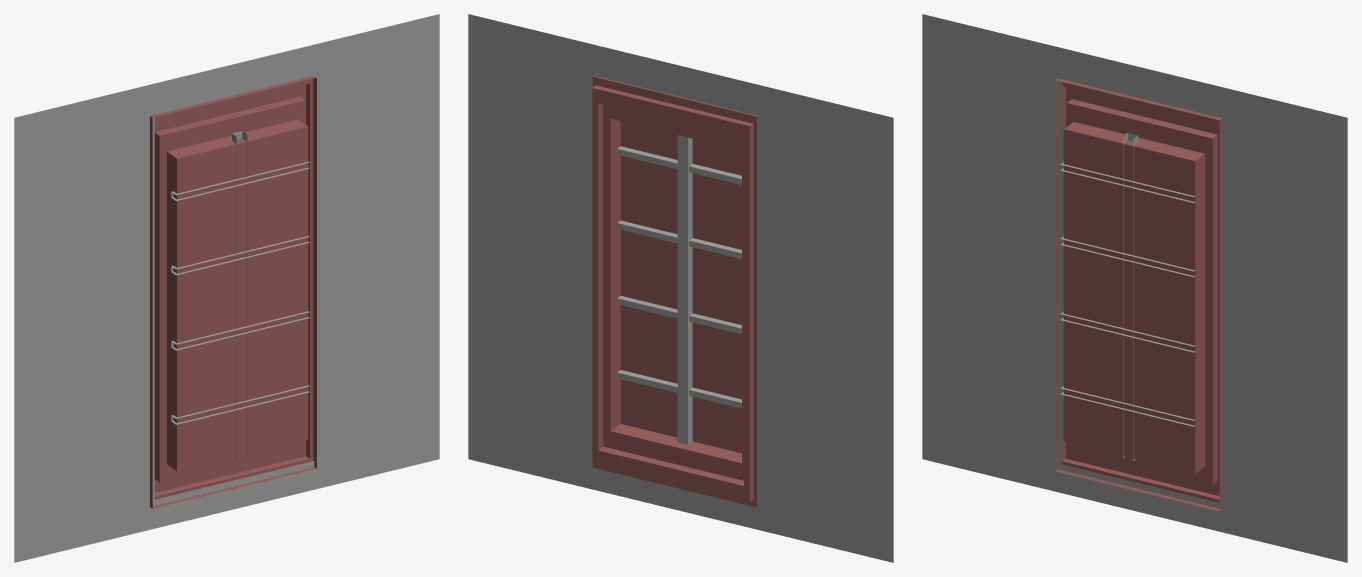
File: 3x3OldLargeWindow.fbx
The picture shows the model from 3 angles, left to right: view 1: azimuth 30°, elevation 25°; view 2: azimuth 150°, elevation 25°; view 3: azimuth 330°, elevation 25°; orthographic projection.
Visible parts, largest first — view 1: polySurface89, polySurface88; view 2: polySurface89, polySurface88; view 3: polySurface89, polySurface88.
Boxes of the visible parts, x1,y1,x2,y2 form: polySurface89: [14, 14, 439, 562]; polySurface88: [150, 76, 316, 508]; polySurface89: [468, 14, 893, 562]; polySurface88: [592, 76, 757, 507]; polySurface89: [922, 14, 1347, 562]; polySurface88: [1055, 78, 1222, 511].
Size of the model in its own units: 3 by 3 by 0.2041.
